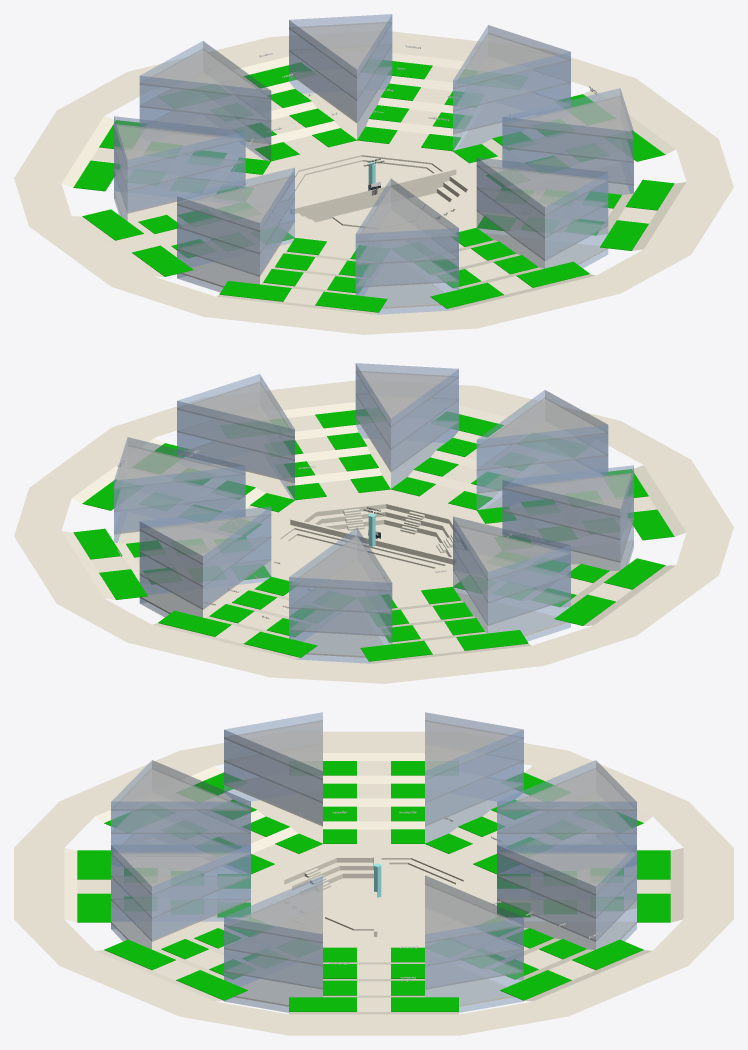
File: comunidad hispana creadores 3.fbx
The picture shows the model from 3 angles, top to bottom: view 1: azimuth 30°, elevation 25°; view 2: azimuth 150°, elevation 25°; view 3: azimuth 270°, elevation 25°; orthographic projection. The views are drawn at different scales.
Visible parts, largest first — view 1: comunidad hispana creadores 3; view 2: comunidad hispana creadores 3; view 3: comunidad hispana creadores 3.
Part boxes in pixels (x1,y1,x2,y2): comunidad hispana creadores 3: (14, 14, 733, 334); comunidad hispana creadores 3: (14, 363, 733, 683); comunidad hispana creadores 3: (14, 712, 733, 1035).
Bounding box in the file's own units: 8487 × 1125 × 8487.
